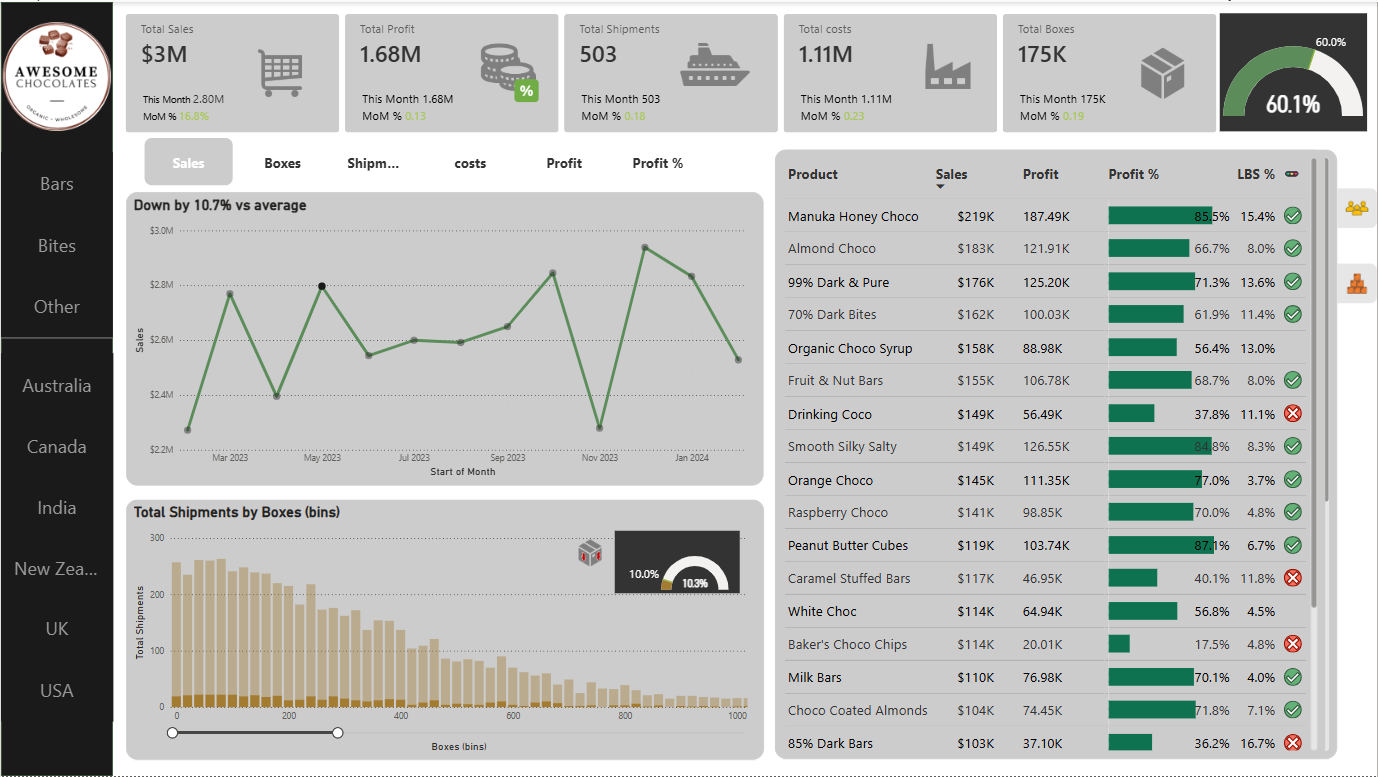

Layout of this report page (visuals, bound fields, positions):
{"tool":"powerbi","page":{"name":"sales Person","canvas":[1920,1080],"ordinal":2},"visuals":[{"type":"shape","box":[0,0,156.2,1080.2],"z":0},{"type":"cardVisual","fields":{"Data":["_Measure.Total Sales","_Measure.Total Profit","_Measure.Total Shipments","_Measure.Total costs","_Measure.Total Boxes"]},"box":[156.2,0,1557.4,199.6],"z":1000},{"type":"image","box":[334.9,59.3,113.4,80.2],"z":2000},{"type":"image","box":[650.6,47.1,116.9,102.9],"z":3000},{"type":"image","box":[929.7,36.6,134.3,102.9],"z":4000},{"type":"image","box":[1269.8,45.3,102.9,89],"z":5000},{"type":"image","box":[1576.7,55.8,89,87.2],"z":6000},{"type":"gauge","fields":{"Y":["_Measure.Profit %"]},"box":[1701.1,15.3,205.2,164.5],"z":7000},{"type":"image","box":[0,28.2,156.2,151.8],"z":8000},{"type":"lineChart","fields":{"Y":["_Measure.Total Sales"],"Category":["calendar.Start of Month"]},"box":[175,265,889.3,409.9],"z":9000},{"type":"advancedSlicerVisual","title":"Measure Selector","fields":{"Values":["Measure Selector.Measure Selector"]},"box":[195,185,788.5,76.9],"z":10000},{"type":"columnChart","fields":{"Category":["shipments.Boxes (bins)"],"Y":["_Measure.Total Shipments"]},"box":[175,694.5,890,363.1],"z":11000},{"type":"gauge","fields":{"Y":["_Measure.LBS %"]},"box":[856.5,737.8,174.4,87.2],"z":12000},{"type":"image","box":[798.8,737.8,46.2,61.5],"z":13000},{"type":"tableEx","title":"People Details","fields":{"Values":["people.Picture","people.Sales person","_Measure.Total Sales","_Measure.Total Profit","_Measure.Profit %","_Measure.LBS %","_Measure.Profit Target Indicater"]},"box":[1079.7,205.8,785,850],"z":14000},{"type":"advancedSlicerVisual","fields":{"Values":["locations.Geo"]},"box":[0,489.7,156.4,513.9],"z":16000},{"type":"advancedSlicerVisual","fields":{"Values":["products.Category"]},"box":[0,208.5,156.2,258.1],"z":17000},{"type":"shape","box":[0,448.7,156.4,41],"z":18000},{"type":"image","title":"People icon","box":[1865,241.7,55,90],"z":19000},{"type":"image","title":"Product icon","box":[1865,361.7,55,63.3],"z":20000}]}

Visuals, with their boxes on the page's 1920x1080 design canvas (x1, y1, x2, y2). These are canvas units, not pixel positions in the 1378x777 screenshot, which may show the page scaled, cropped or inside an application window:
shape: (x1=0, y1=0, x2=156, y2=1080)
cardVisual - _Measure.Total Sales x _Measure.Total Profit: (x1=156, y1=0, x2=1714, y2=200)
image: (x1=335, y1=59, x2=448, y2=140)
image: (x1=651, y1=47, x2=768, y2=150)
image: (x1=930, y1=37, x2=1064, y2=140)
image: (x1=1270, y1=45, x2=1373, y2=134)
image: (x1=1577, y1=56, x2=1666, y2=143)
gauge - _Measure.Profit %: (x1=1701, y1=15, x2=1906, y2=180)
image: (x1=0, y1=28, x2=156, y2=180)
lineChart - _Measure.Total Sales x calendar.Start of Month: (x1=175, y1=265, x2=1064, y2=675)
"Measure Selector" advancedSlicerVisual: (x1=195, y1=185, x2=984, y2=262)
columnChart - shipments.Boxes (bins) x _Measure.Total Shipments: (x1=175, y1=694, x2=1065, y2=1058)
gauge - _Measure.LBS %: (x1=856, y1=738, x2=1031, y2=825)
image: (x1=799, y1=738, x2=845, y2=799)
"People Details" tableEx: (x1=1080, y1=206, x2=1865, y2=1056)
advancedSlicerVisual - locations.Geo: (x1=0, y1=490, x2=156, y2=1004)
advancedSlicerVisual - products.Category: (x1=0, y1=208, x2=156, y2=467)
shape: (x1=0, y1=449, x2=156, y2=490)
"People icon" image: (x1=1865, y1=242, x2=1920, y2=332)
"Product icon" image: (x1=1865, y1=362, x2=1920, y2=425)
